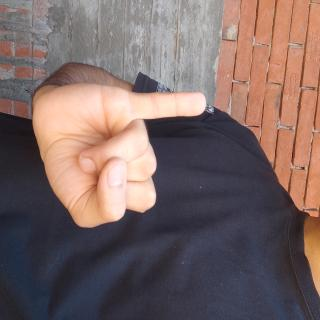MEEM: (49, 141, 172, 320)
